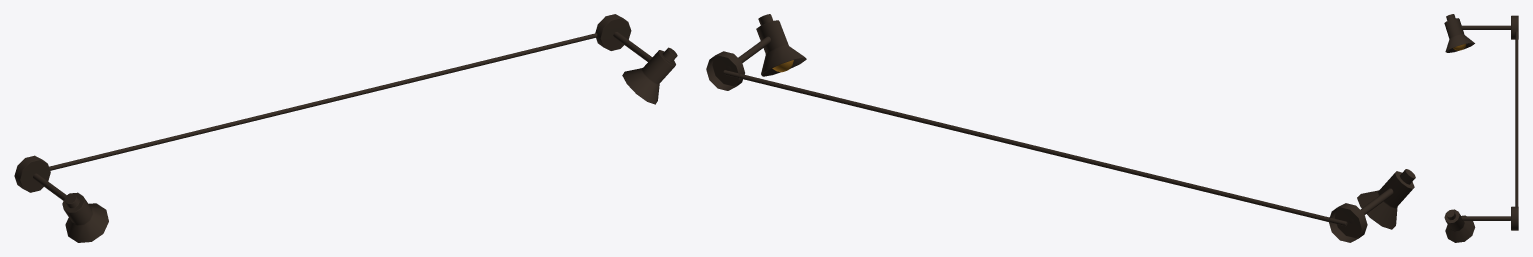
File: Lamps.FBX
3 renders of one model, left to right at view 1: azimuth 30°, elevation 25°; view 2: azimuth 150°, elevation 25°; view 3: azimuth 270°, elevation 25°, orthographic. The views are drawn at different scales.
Parts seen in each view (by area): view 1: Lamps; view 2: Lamps; view 3: Lamps.
Part boxes in pixels (x1,y1,x2,y2): Lamps: [14, 14, 677, 242]; Lamps: [706, 14, 1415, 242]; Lamps: [1444, 14, 1518, 242].
Size of the model in its own units: 316 by 26.14 by 49.33.
